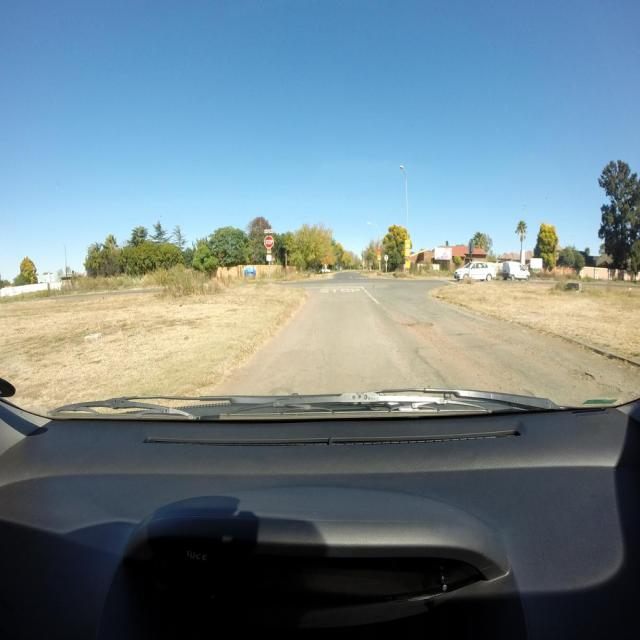Pothole: (570, 369, 596, 382), (402, 320, 434, 328)
